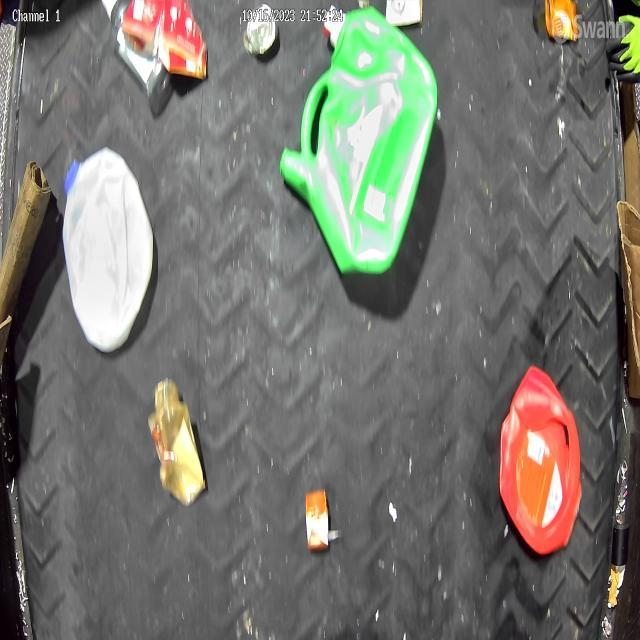can: (243, 2, 279, 62)
milk_jug: (59, 144, 156, 356)
non_white_jug: (278, 8, 440, 279), (496, 360, 584, 562)
